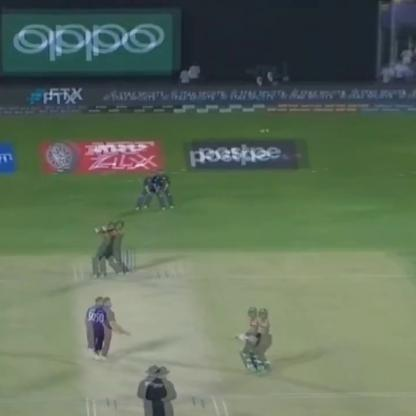ball: (262, 124, 274, 135), (258, 126, 265, 136)
pitch: (65, 250, 222, 416)
